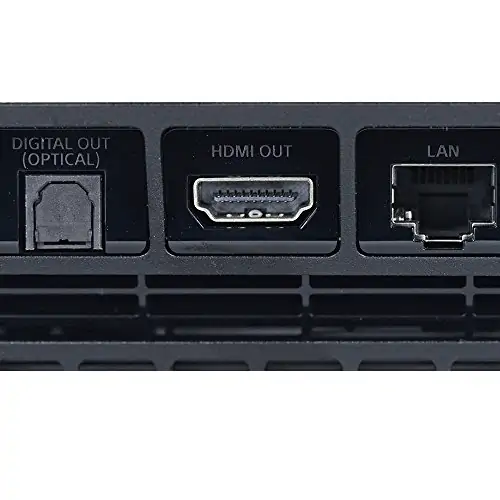hdmi_in: (184, 169, 321, 237)
